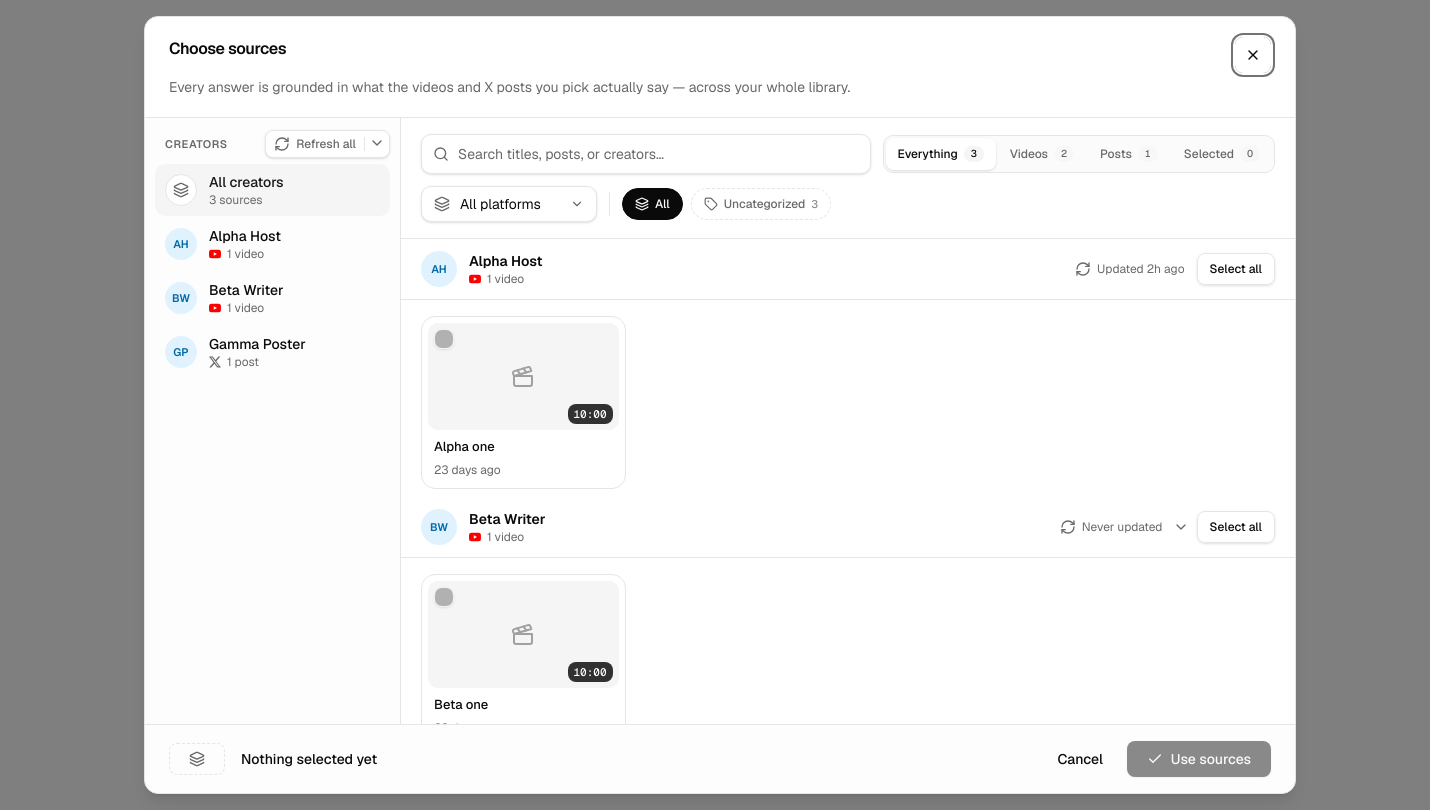
Test: ChatSourcePicker — refreshing one creator › refreshes a person's platforms side by side, and names the one that failed
This screenshot has width=1440, height=810.
# One account never updated: the person reads as never updated.
What coordinates should you click on to do the following:
click the button with aria-label "Refresh Beta Writer (never updated)"
I would click on:
 (1110, 527)
Its box is [1052,511,1168,543].
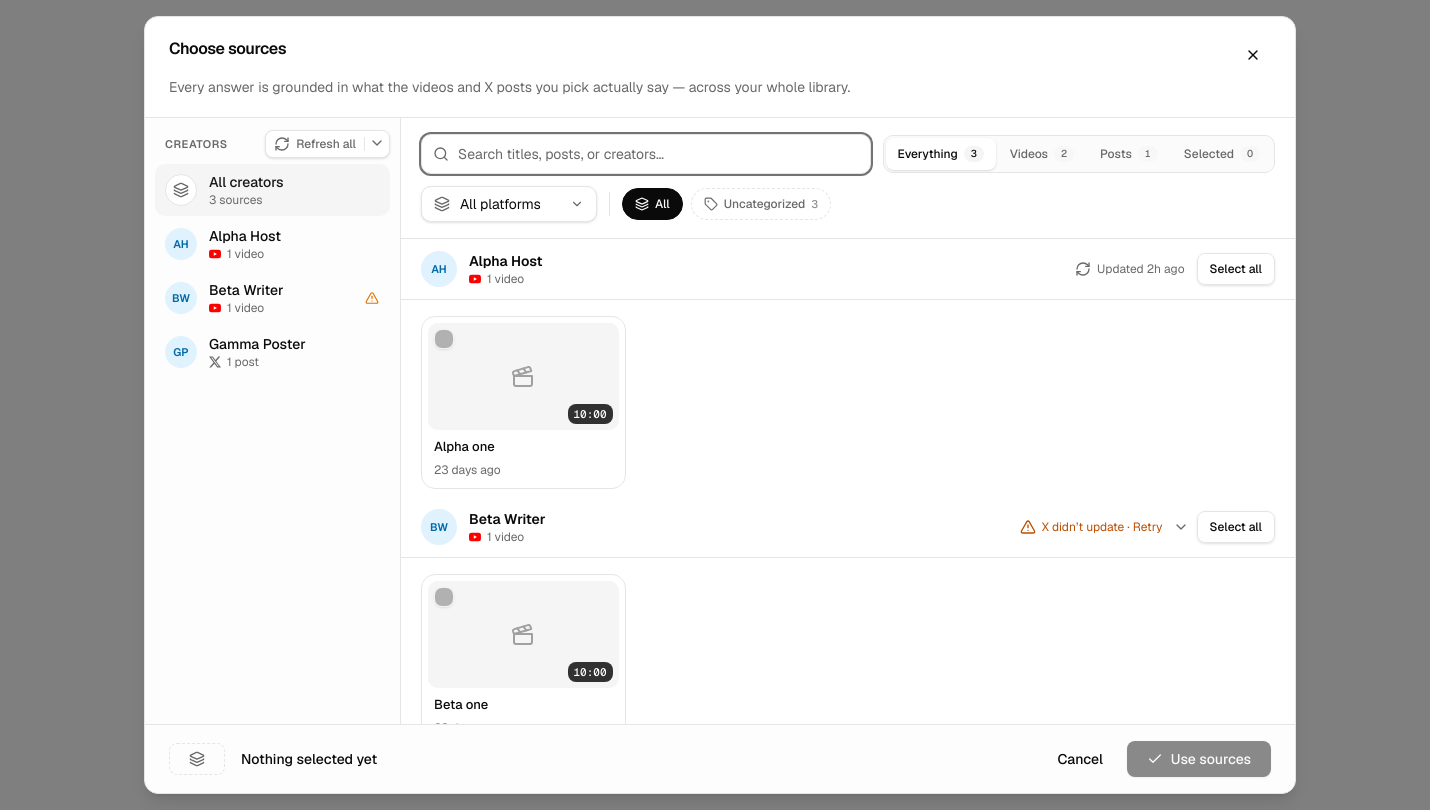
Expected: the button with aria-label "Retry updating Beta Writer (x didn’t update)" reads "X didn’t update · Retry", [1012,511,1168,543]
